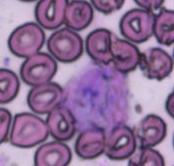E: (58, 61, 132, 148)
